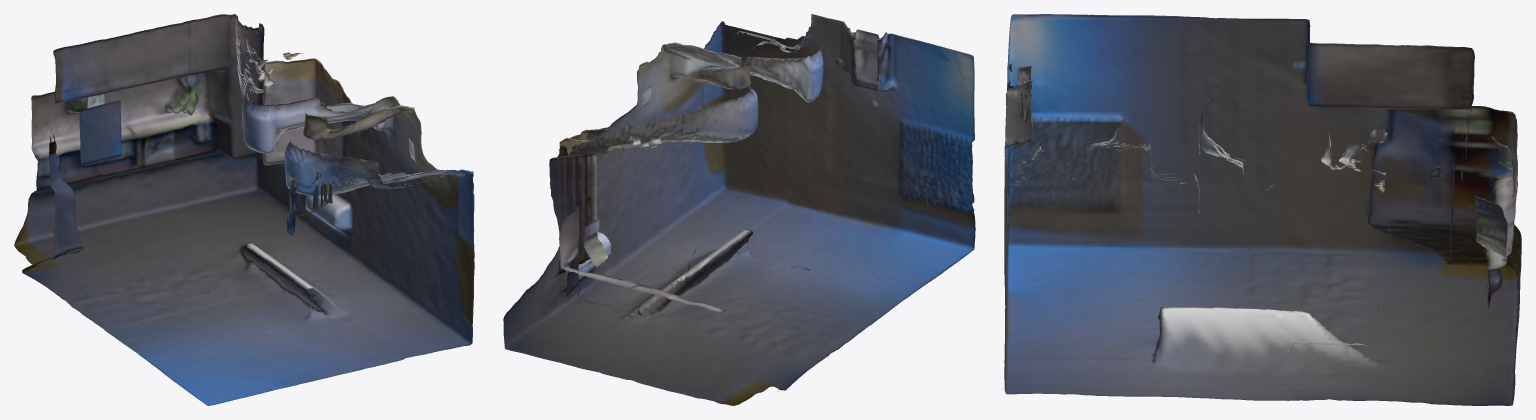
3 renders of one model, left to right at view 1: azimuth 30°, elevation 25°; view 2: azimuth 150°, elevation 25°; view 3: azimuth 270°, elevation 25°, orthographic. The views are drawn at different scales.
Parts seen in each view (by area): view 1: world; view 2: world; view 3: world.
Part boxes in pixels (<box>): world: <box>14,14,474,405</box>; world: <box>503,14,975,405</box>; world: <box>1004,14,1521,405</box>.
Size of the model in its own units: 3.25 by 2.43 by 4.67.
